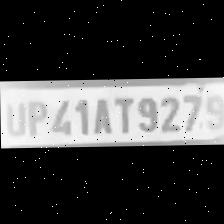1: (70, 94, 90, 134)
2: (156, 92, 180, 130)
4: (47, 94, 73, 134)
7: (178, 89, 202, 130)
9: (133, 92, 157, 131)
A: (89, 93, 112, 133)
P: (22, 96, 46, 135)
T: (110, 93, 134, 133)
U: (0, 96, 22, 135)
